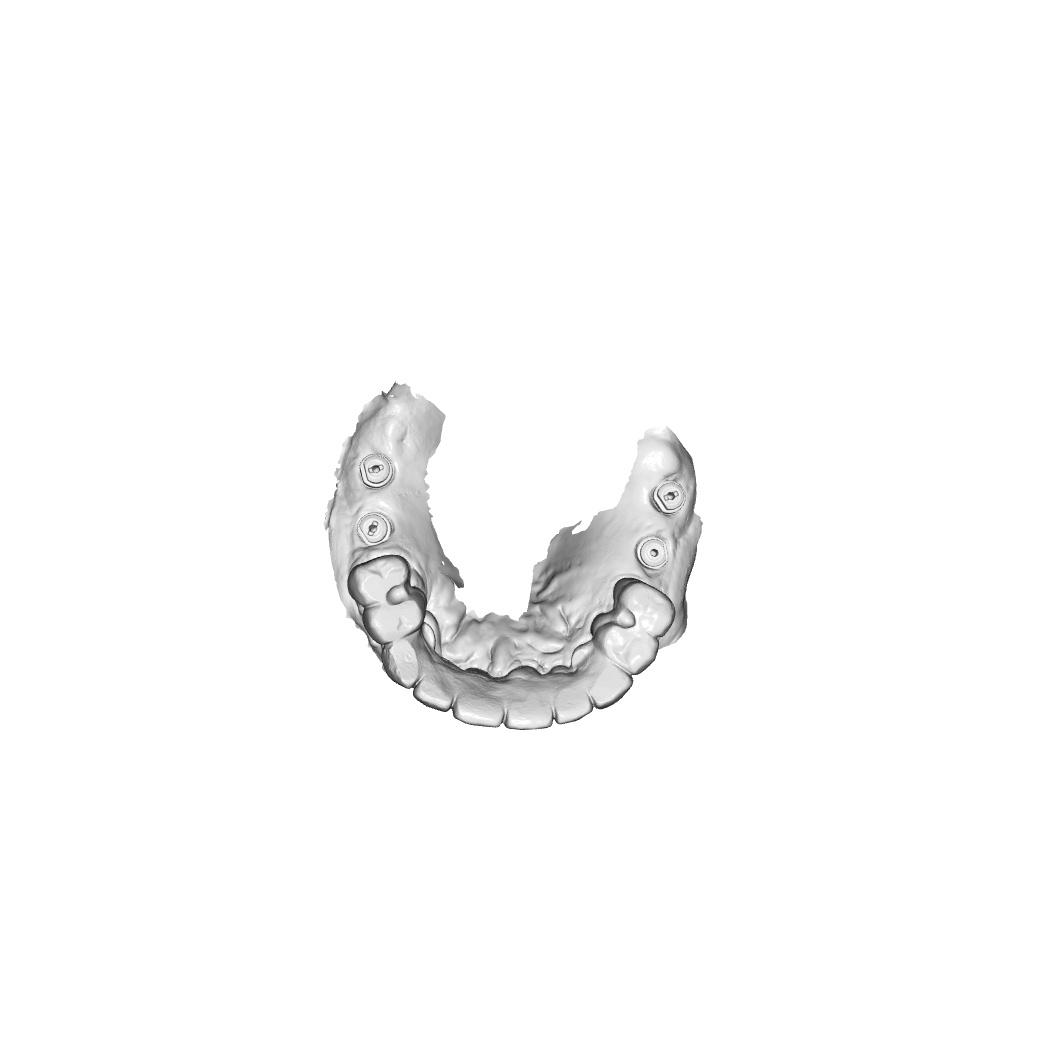canine: (381, 629, 434, 690), (580, 654, 634, 710)
implant: (635, 535, 669, 572)
implant_minus: (356, 510, 395, 547), (358, 452, 395, 490), (651, 478, 688, 516)
incisor: (502, 673, 554, 731), (451, 677, 506, 729), (549, 675, 595, 726), (411, 665, 458, 713)
premolar: (360, 589, 429, 645), (615, 580, 678, 640), (346, 553, 412, 609), (601, 626, 661, 678)
